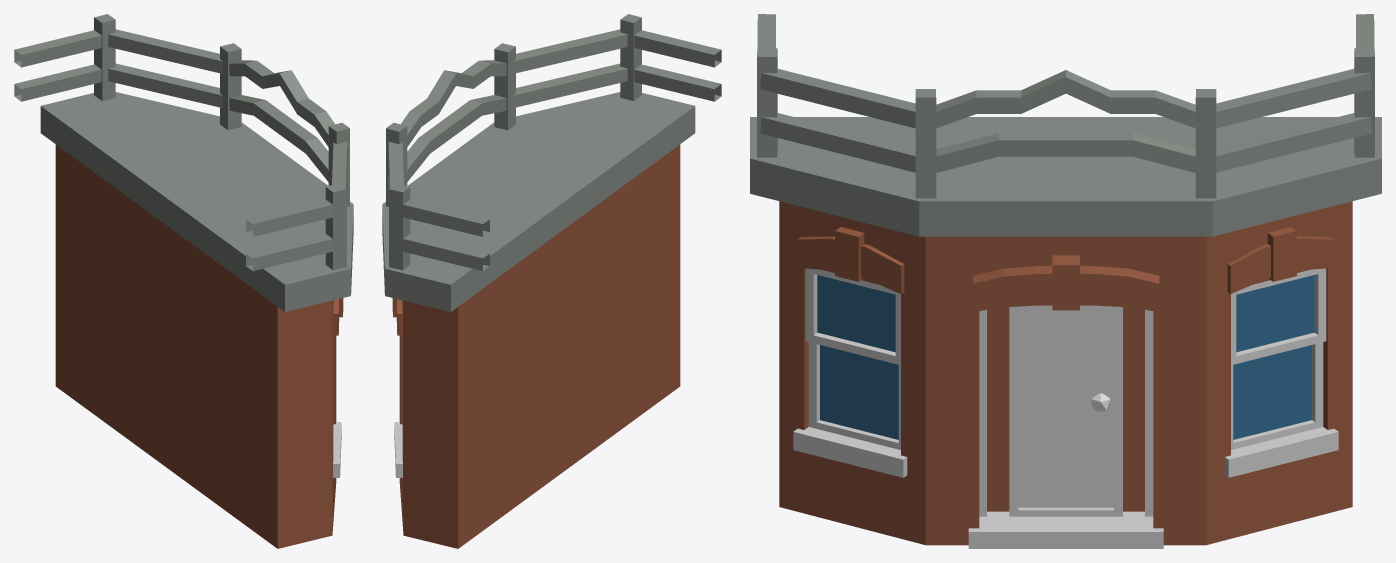
The model's file is DoorExtension-1-4.gltf.
The picture shows the model from 3 angles, left to right: view 1: azimuth 30°, elevation 25°; view 2: azimuth 150°, elevation 25°; view 3: azimuth 270°, elevation 25°; orthographic projection. The views are drawn at different scales.
Parts seen in each view (by area): view 1: DoorExtension-1-4; view 2: DoorExtension-1-4; view 3: DoorExtension-1-4.
Boxes of the visible parts, x1,y1,x2,y2 form: DoorExtension-1-4: [14, 14, 353, 548]; DoorExtension-1-4: [382, 14, 721, 548]; DoorExtension-1-4: [750, 14, 1381, 548].
Bounding box in the file's own units: 2.23 × 4.77 × 5.75.
2 materials, 1 textured.
